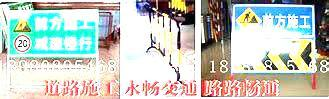sign: (234, 4, 316, 74), (8, 10, 98, 58)
